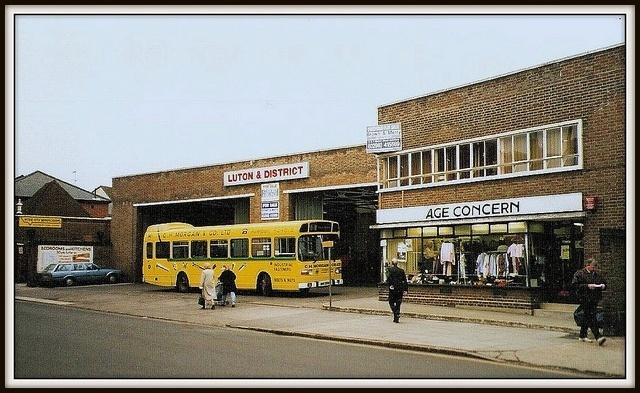car: (40, 261, 125, 286)
